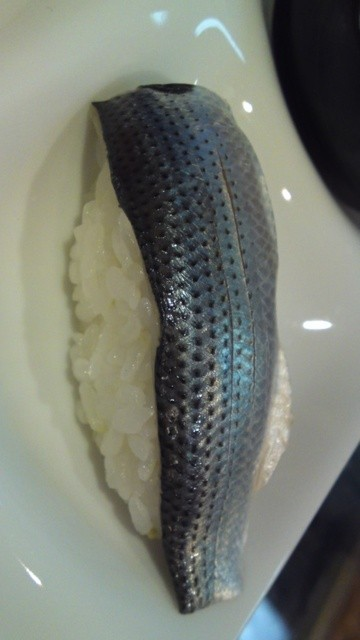spotted-shad: (64, 81, 294, 620)
